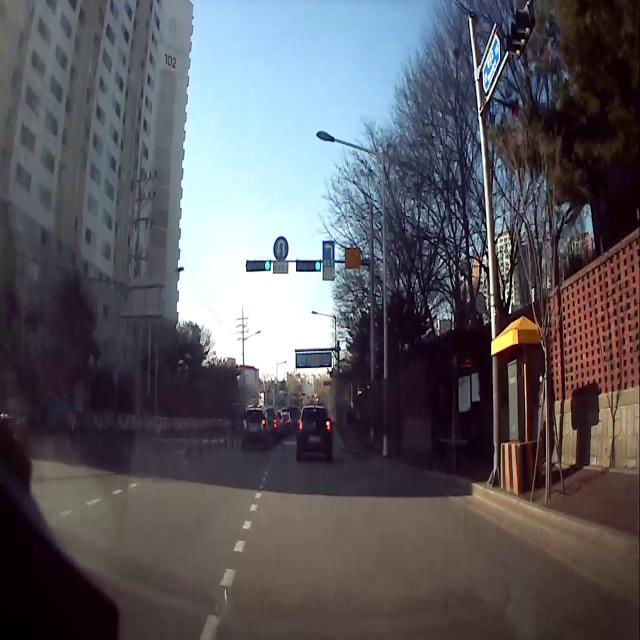Green Light: (264, 260, 272, 272), (314, 261, 322, 271)
